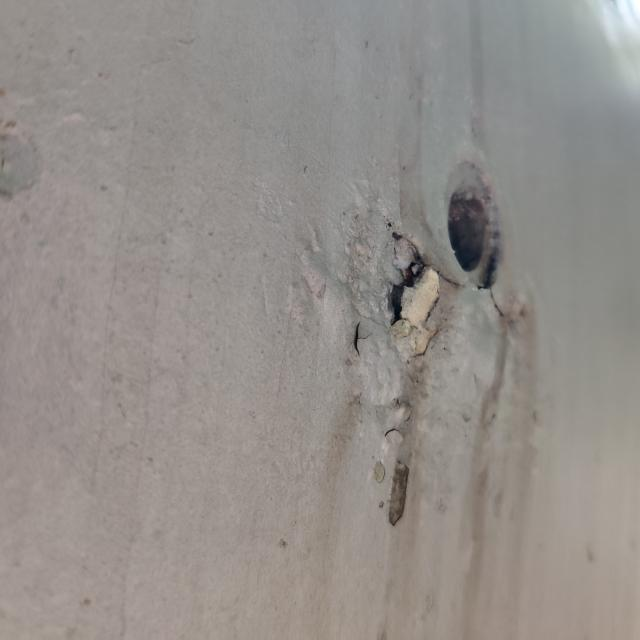crack: (333, 205, 480, 370)
